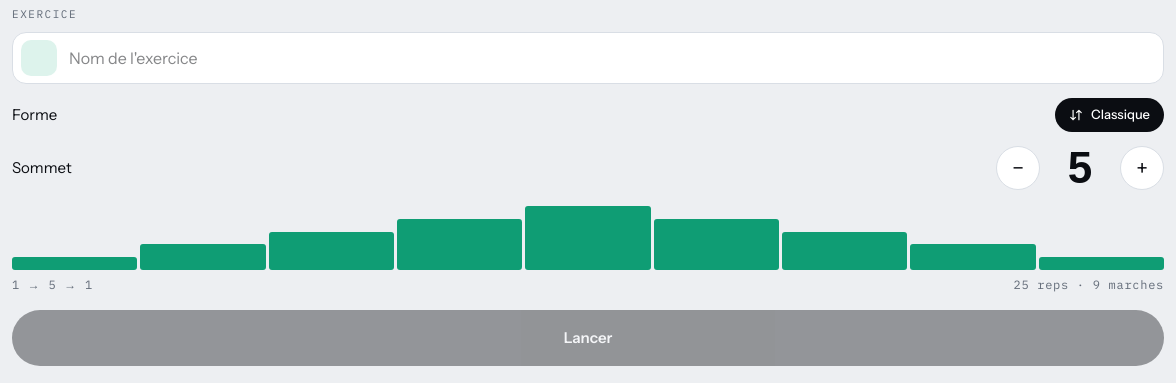
Test: PyramidLauncher › follows the shape and the peak
The width and height of the screenshot is (1176, 383).
Click the button with aria-label "Forme : Classique".
click(1110, 115)  # box [1055, 98, 1164, 132]
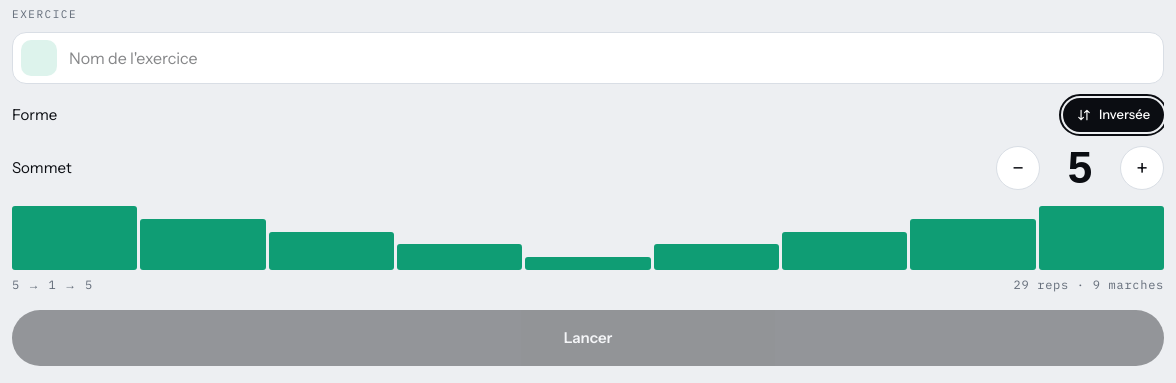
Expected: the text "29 reps · 9 marches" is shown, [1014, 276, 1164, 294]
Click the button named "Sommet moins".
click(1018, 168)  # box [996, 146, 1040, 190]
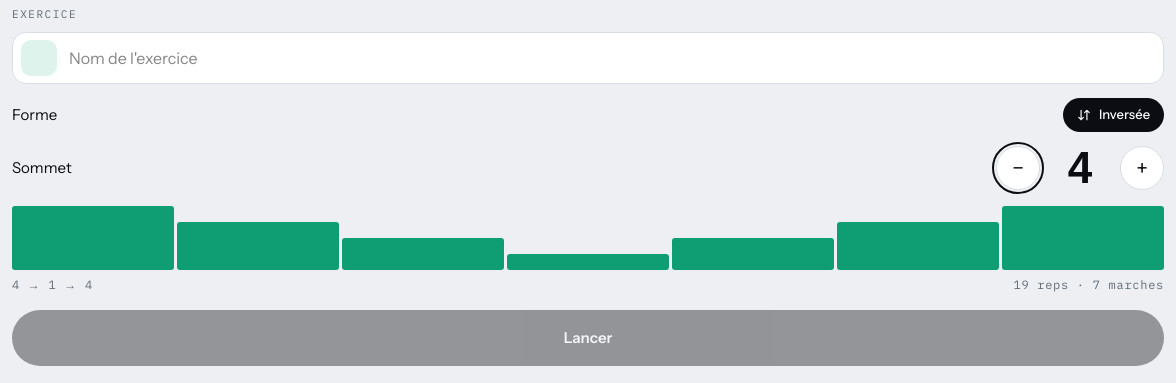
Expected: the text "19 reps · 7 marches" is shown, [1014, 276, 1164, 294]
